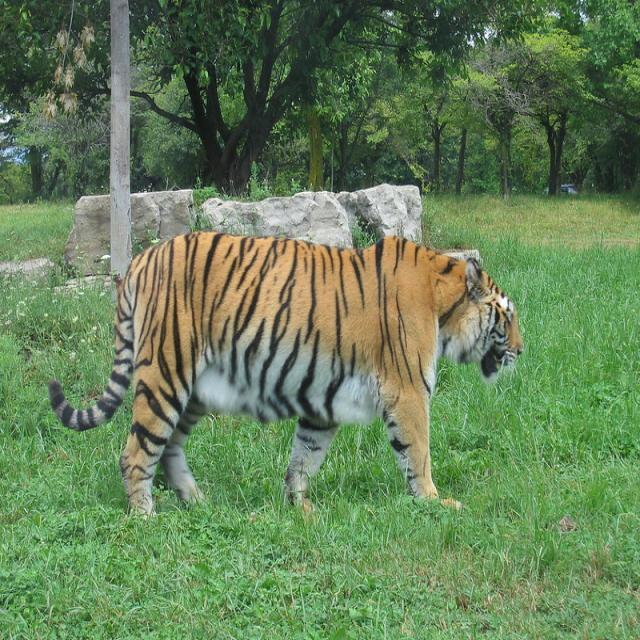Tiger: (46, 232, 526, 520)
